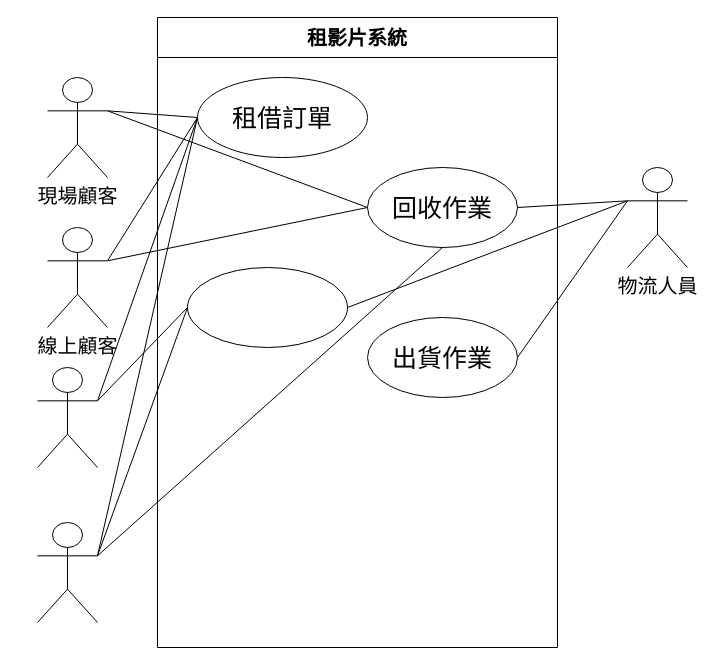
This 715x671 diagram has some shape labels left out. The shapes that lost their labels are listed below. From the top down, each one's centre as x and y in pixels, then its label:
At point (267, 307): "影片庫存".
At point (67, 417): "店員".
At point (67, 572): "庫存管理員".
